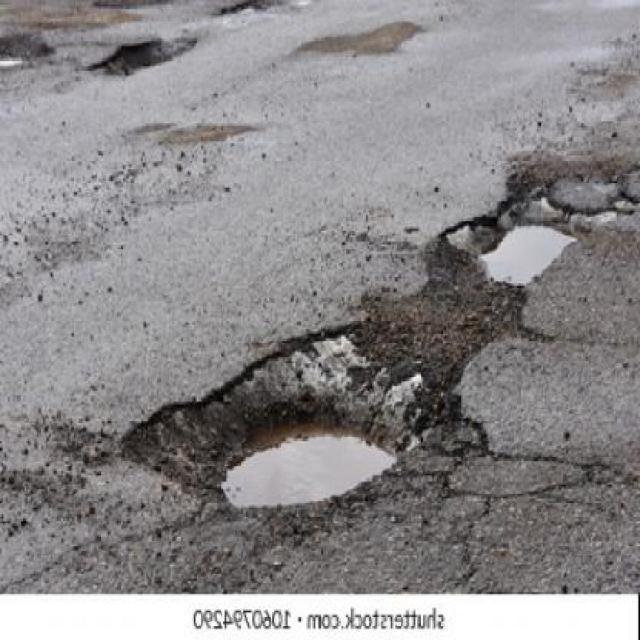Pothole: (117, 151, 637, 521), (86, 36, 198, 75)
